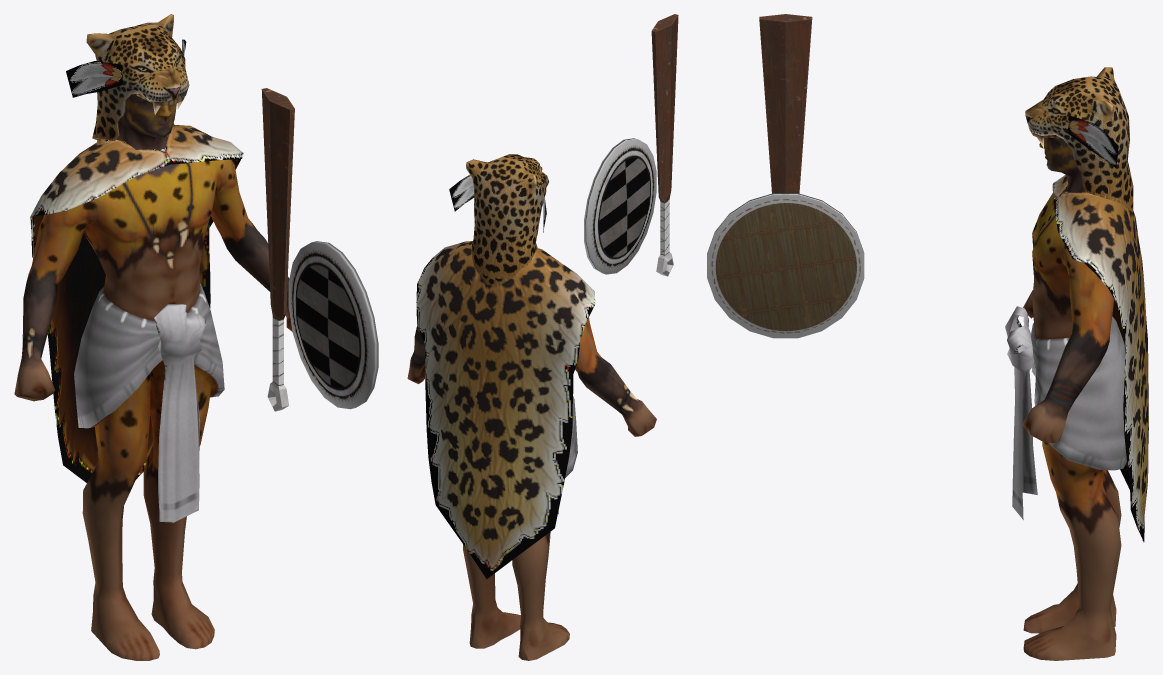
File: 165-ocelotlwarrior.glb
3 renders of one model, left to right at view 1: azimuth 30°, elevation 25°; view 2: azimuth 150°, elevation 25°; view 3: azimuth 270°, elevation 25°, orthographic. The views are drawn at different scales.
Bounding box in the file's own units: 1.12 × 2.33 × 1.53.
Materials: 4 (4 with a texture image).
